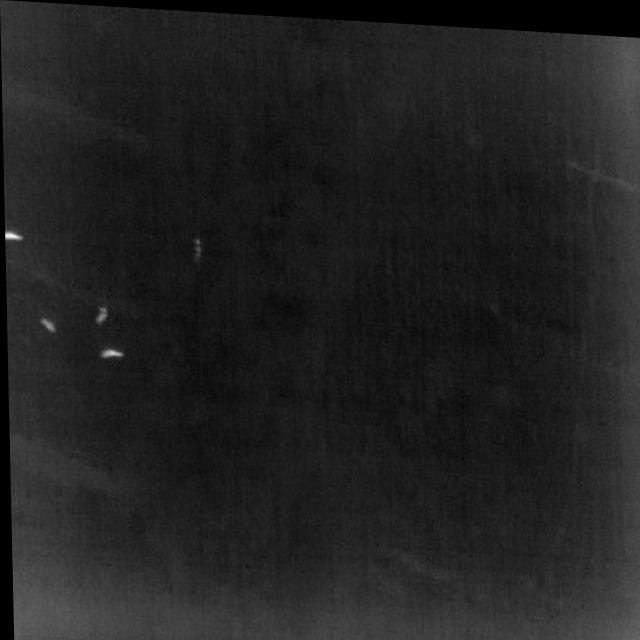deer: (191, 235, 202, 265), (92, 304, 108, 324), (97, 346, 123, 358), (37, 316, 55, 333), (4, 230, 23, 242)
